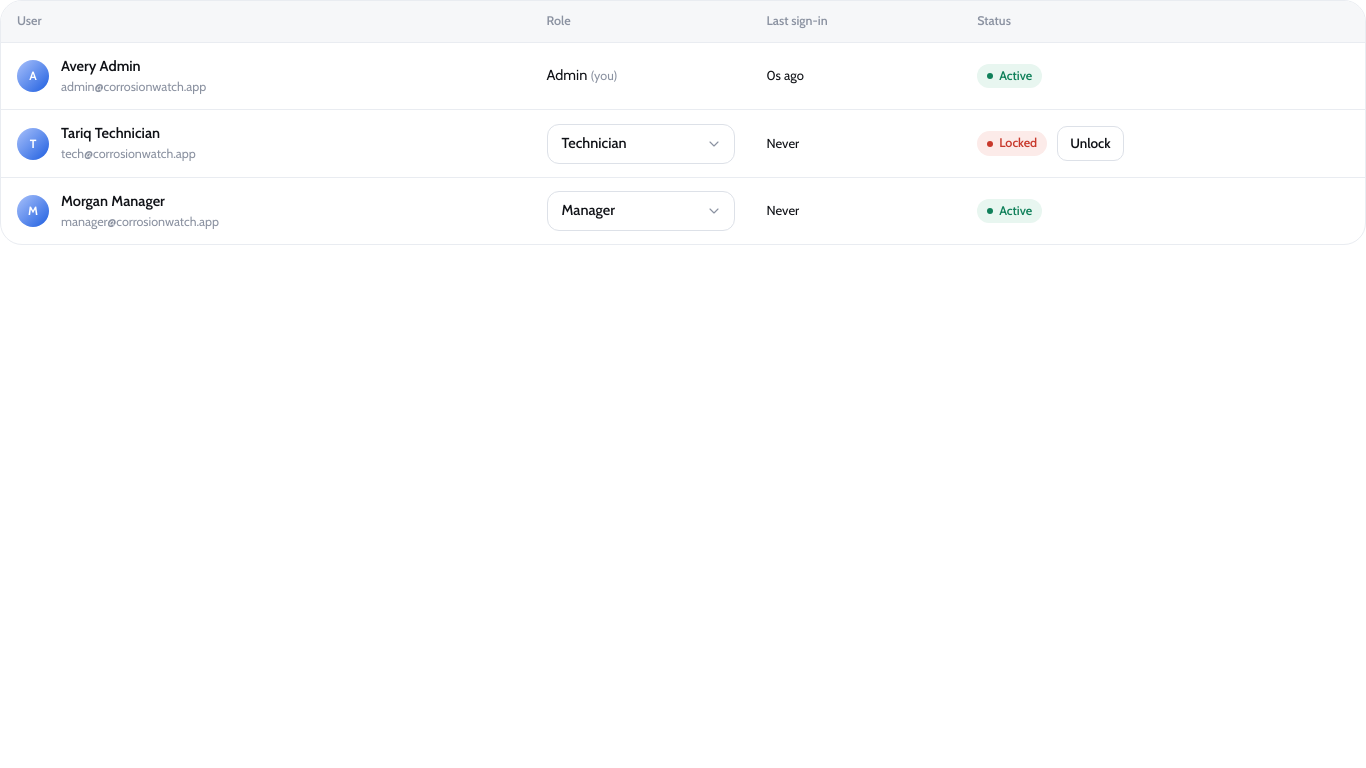
Test: Admin > Users › cancelling the confirmation saves nothing
Check: the text "Morgan Manager" is shown, box [61,192,165,210]
Click the button with aria-label "Role for Morgan Manager": (640, 211) [546,191,734,231]
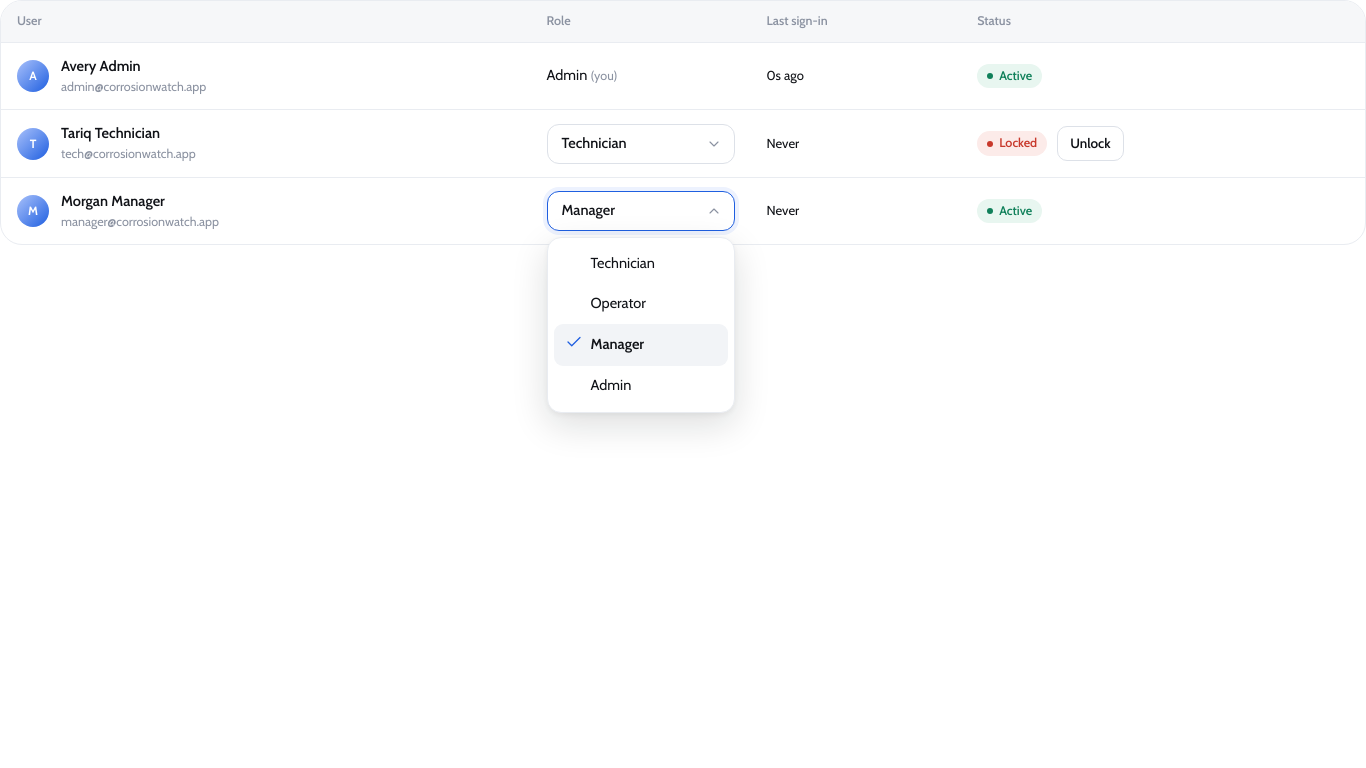
Click the option "Admin": (640, 386) [554,366,728,406]
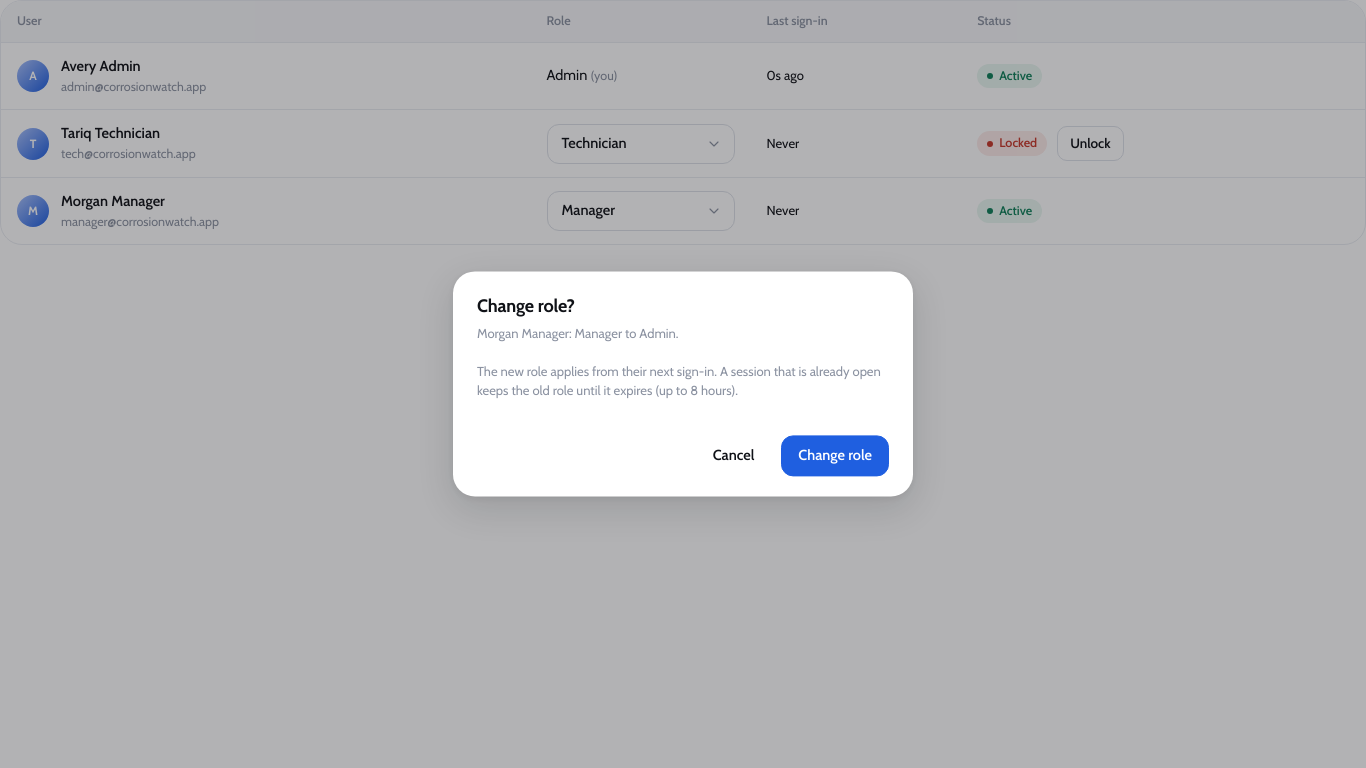
Click the button "Cancel": (733, 456) [696,435,771,477]
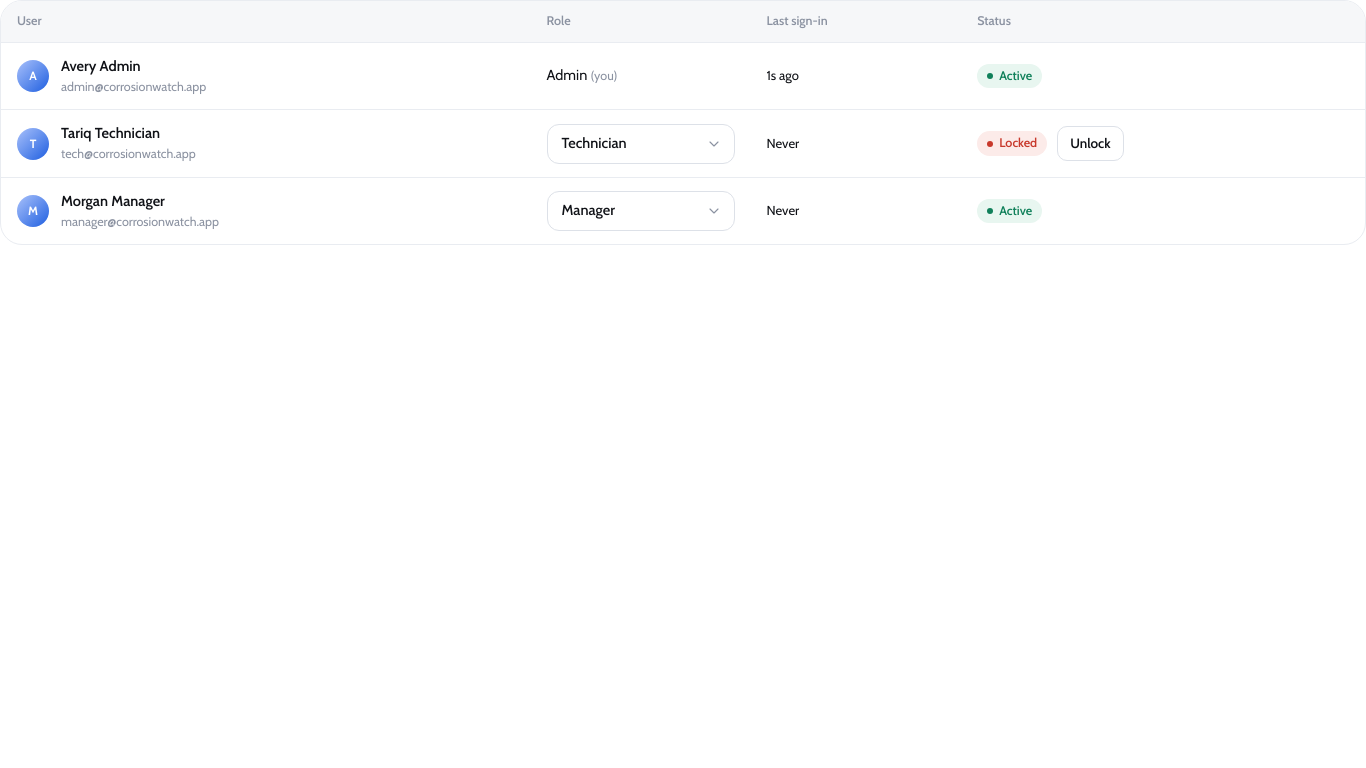
Check: the dialog is gone
